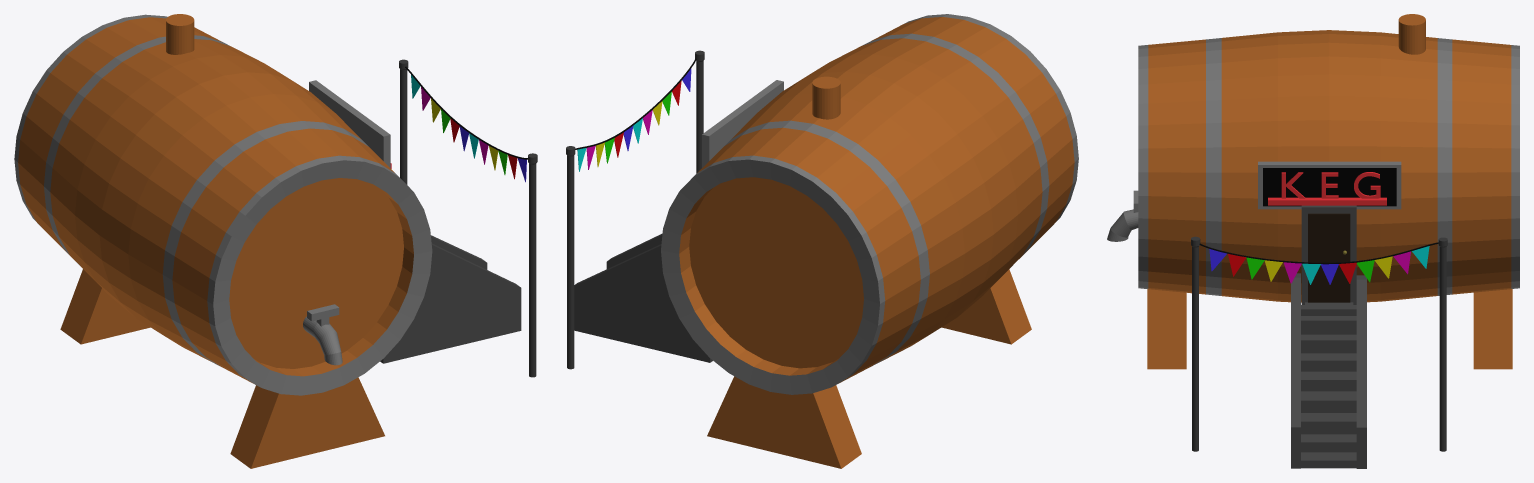
The model's file is Bar.fbx.
The picture shows the model from 3 angles, left to right: view 1: azimuth 30°, elevation 25°; view 2: azimuth 150°, elevation 25°; view 3: azimuth 270°, elevation 25°; orthographic projection. The views are drawn at different scales.
Visible parts, largest first — view 1: Cylinder, Cube.005, Cube.001, Cube.002, Cube.007, Cylinder.003, Cylinder.001, Cylinder.004, Cylinder.002; view 2: Cylinder, Cube.005, Cube.002, Cube.001, Cube.007, Cylinder.004, Cylinder.001, Cylinder.003; view 3: Cylinder, Cube.005, Cube.007, Cube.004, Cube.002, Cube.001, Cylinder.004, Cylinder.003, Cylinder.001, Cube.006, Text, Cylinder.002 (+1 smaller).
Boxes of the visible parts, <box> form: Cylinder: <box>14,14,432,395</box>; Cube.005: <box>380,235,521,363</box>; Cube.001: <box>230,377,384,468</box>; Cube.002: <box>60,269,150,344</box>; Cube.007: <box>309,80,390,167</box>; Cylinder.003: <box>528,153,537,377</box>; Cylinder.001: <box>166,14,194,54</box>; Cylinder.004: <box>399,59,408,184</box>; Cylinder.002: <box>303,316,342,365</box>; Cylinder: <box>661,14,1078,394</box>; Cube.005: <box>574,233,712,362</box>; Cube.002: <box>707,376,861,468</box>; Cube.001: <box>941,269,1031,344</box>; Cube.007: <box>702,80,783,167</box>; Cylinder.004: <box>566,146,575,369</box>; Cylinder.001: <box>812,76,840,119</box>; Cylinder.003: <box>695,50,704,173</box>; Cylinder: <box>1138,30,1519,302</box>; Cube.005: <box>1291,273,1366,468</box>; Cube.007: <box>1258,161,1401,209</box>; Cube.004: <box>1301,205,1356,304</box>; Cube.002: <box>1473,289,1512,369</box>; Cube.001: <box>1147,289,1186,369</box>; Cylinder.004: <box>1438,237,1447,451</box>; Cylinder.003: <box>1191,236,1200,451</box>; Cylinder.001: <box>1398,14,1425,54</box>; Cube.006: <box>1268,197,1386,205</box>; Text: <box>1281,172,1380,198</box>; Cylinder.002: <box>1107,209,1138,241</box>.
Bounding box in the file's own units: 2265 × 1790 × 2100.
